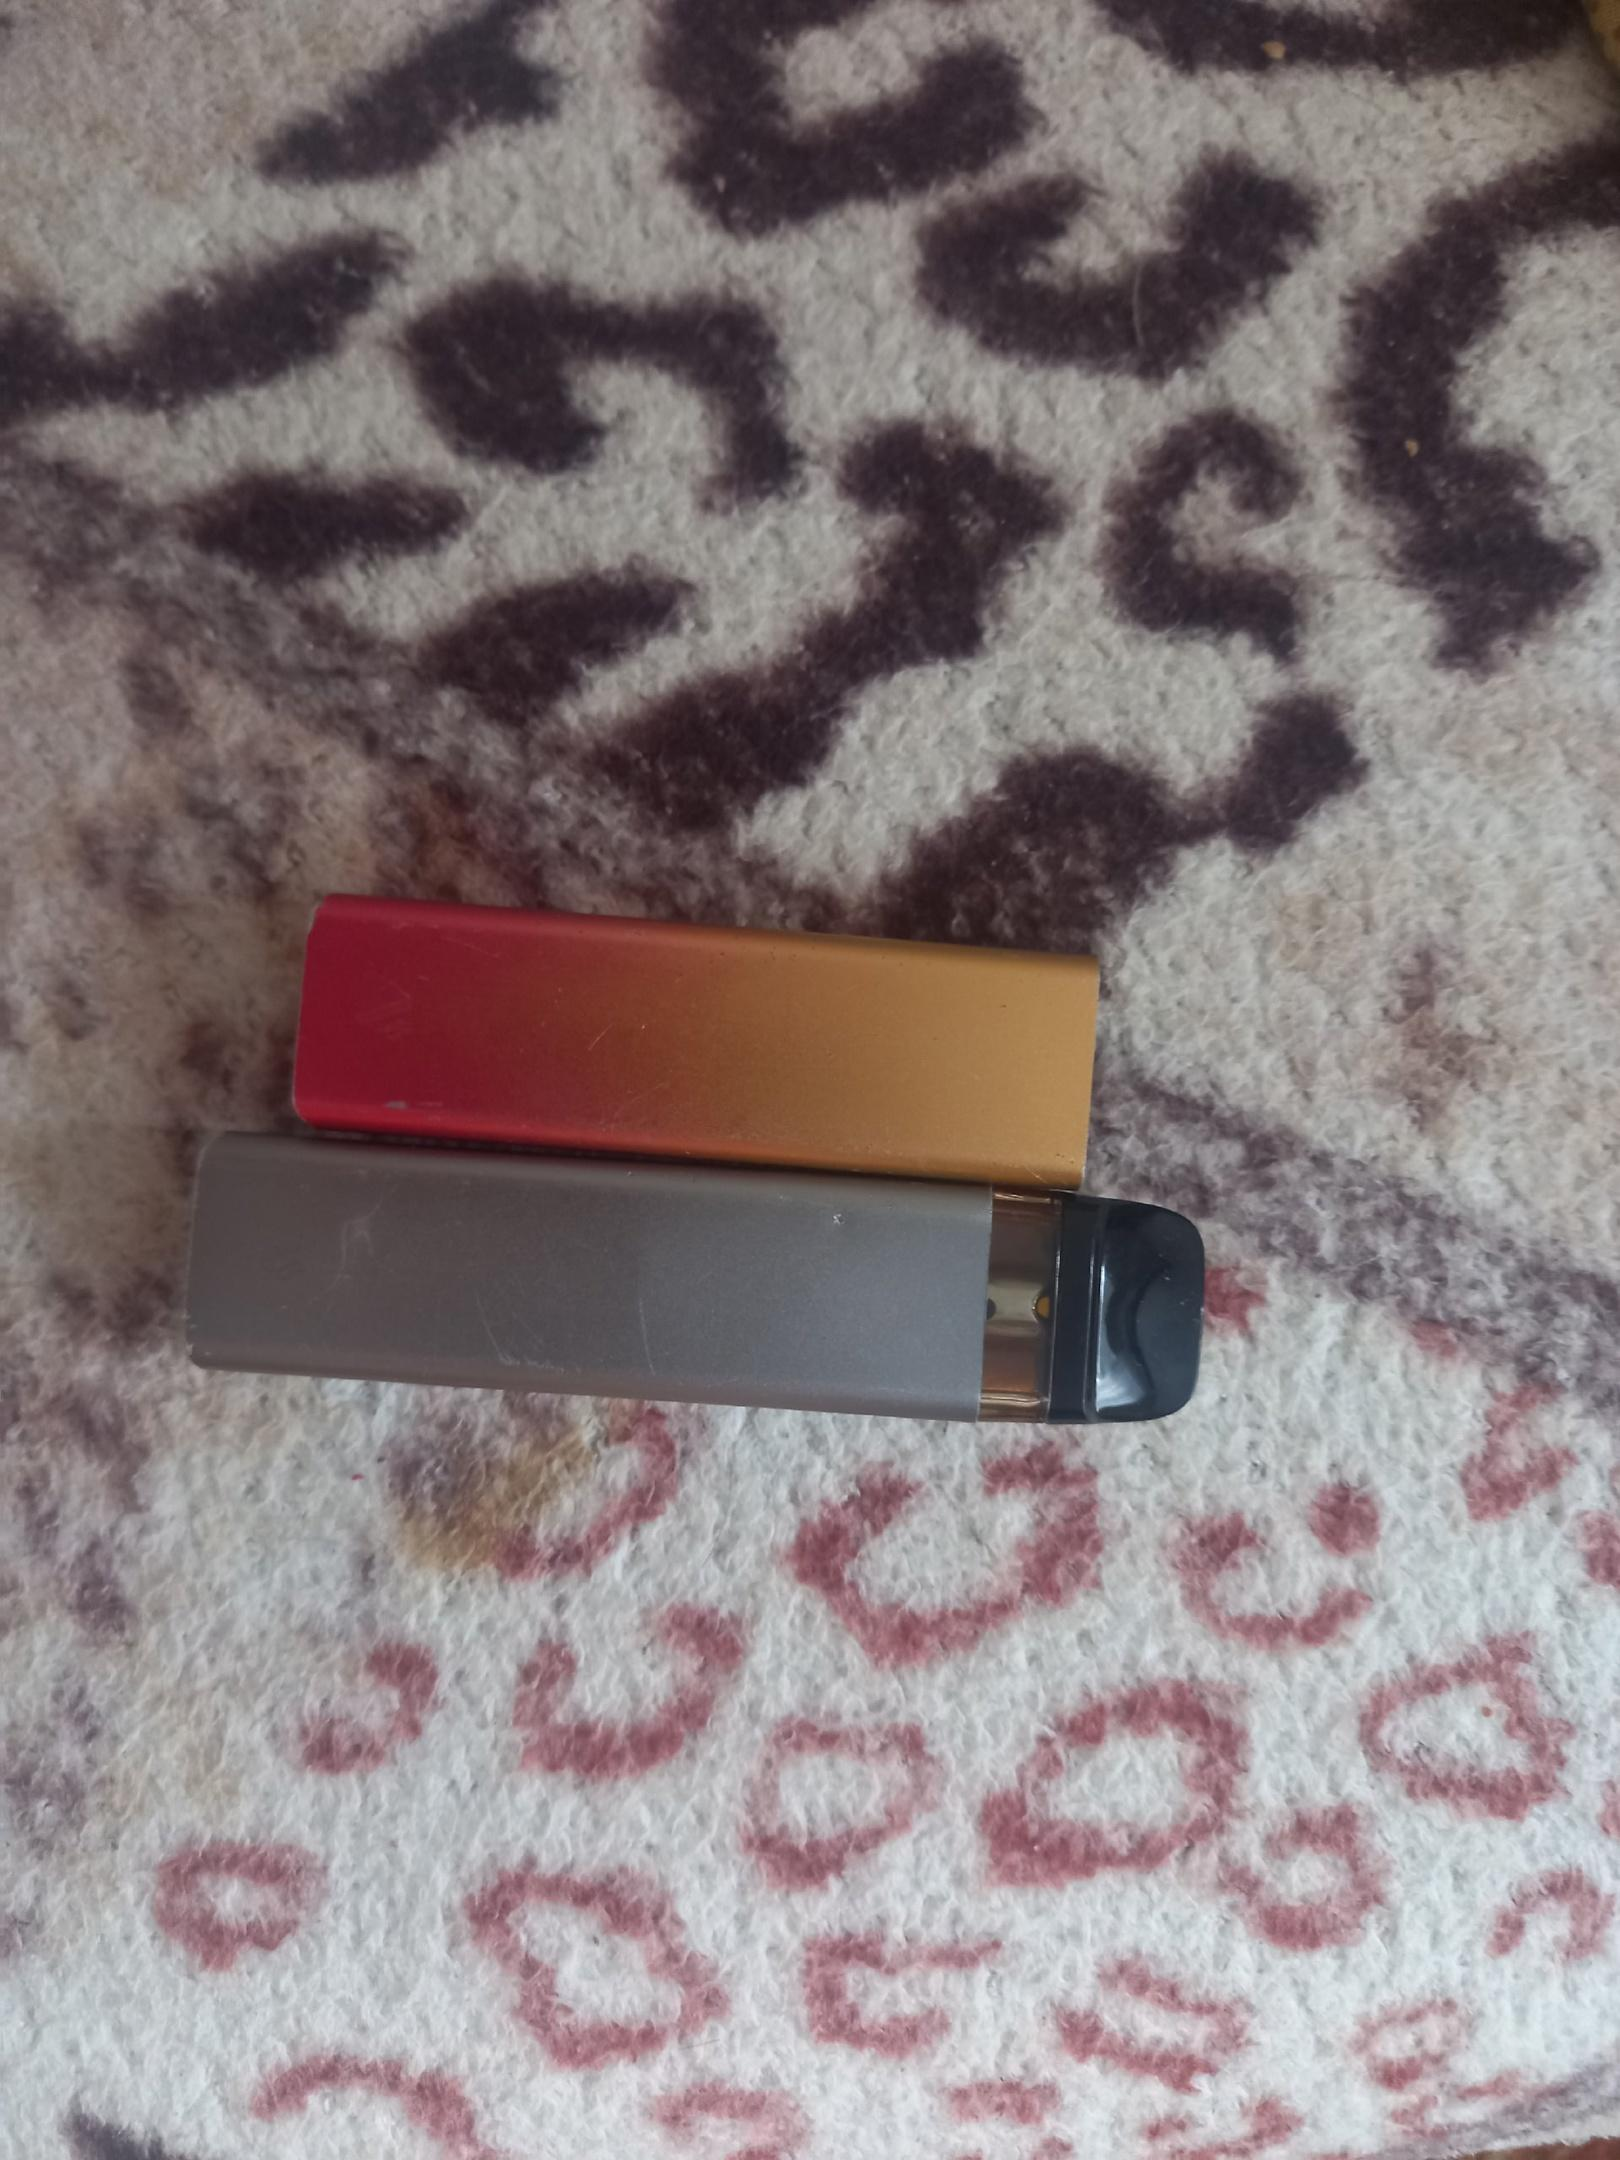Vape: (187, 1134, 1203, 1424)
